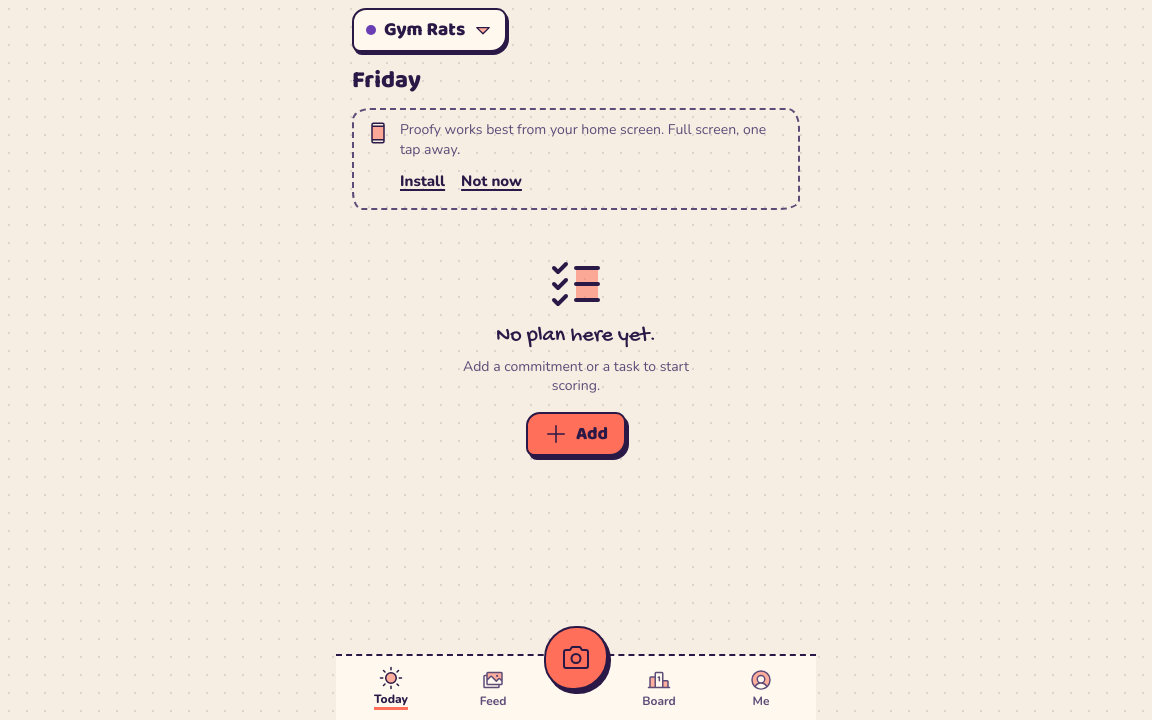
Scenario: join by code (create screen and sheet) › a typed code in the create sheet asks "Discard this?" before closing
Click the button with aria-label "switch group": click(430, 30) [352,8,507,52]
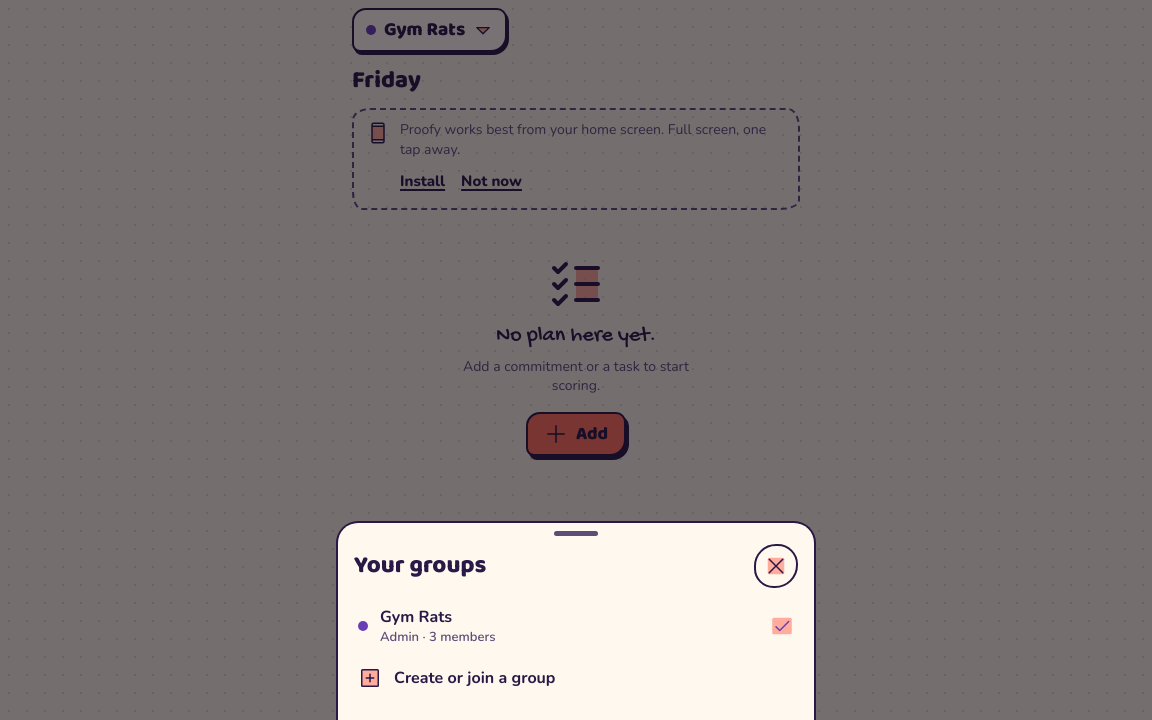
Click the button "Create or join a group": click(475, 678) [354,652,798,704]
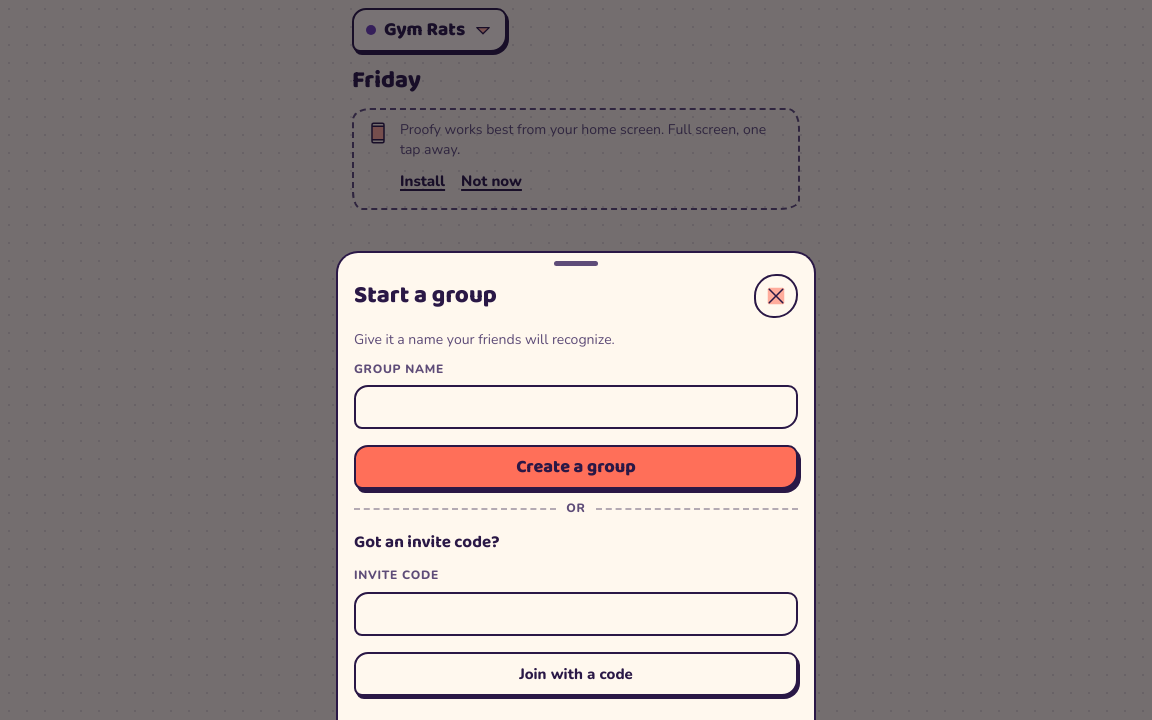
In the field labelled "Invite code": (576, 614) [354,592,798,636], type "K7"
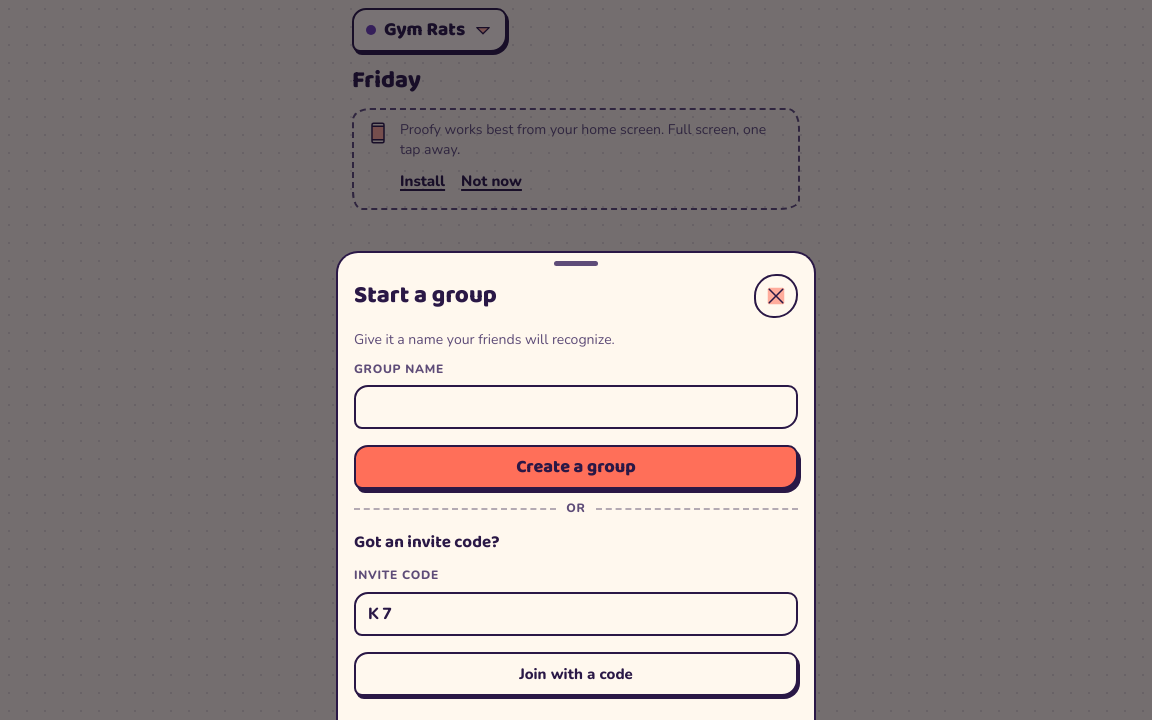
Click the button named "Close": click(776, 296) [754,274,798,318]
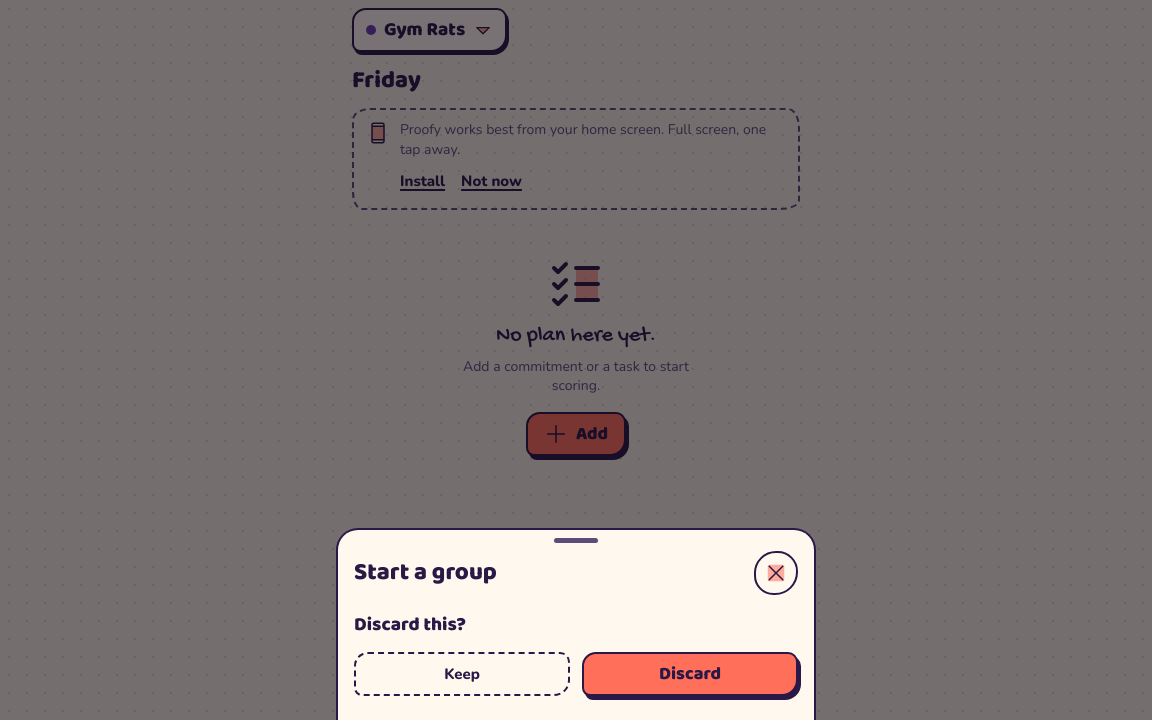
Now the text "Discard this?" is shown, box [354,610,466,640]
